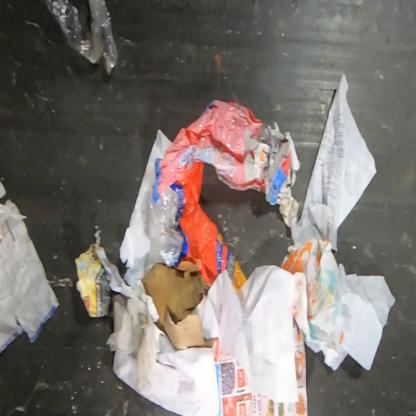cardboard: (142, 260, 216, 353)
soft_plastic: (149, 100, 266, 294), (40, 0, 118, 78)
